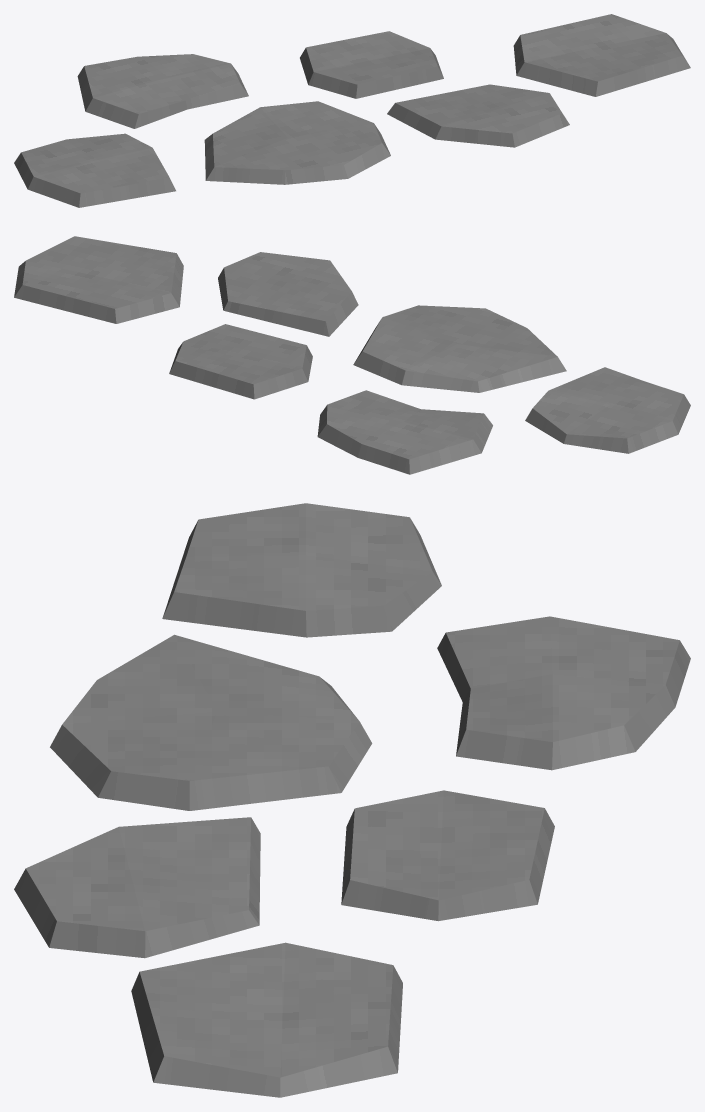
The model's file is RockSlab1.fbx.
The picture shows the model from 3 angles, top to bottom: view 1: azimuth 30°, elevation 25°; view 2: azimuth 150°, elevation 25°; view 3: azimuth 270°, elevation 25°; orthographic projection. The views are drawn at different scales.
Visible parts, largest first — view 1: rock_slab1; view 2: rock_slab1; view 3: rock_slab1.
Part boxes in pixels (<box>): rock_slab1: <box>14,14,690,207</box>; rock_slab1: <box>14,236,690,474</box>; rock_slab1: <box>14,503,690,1097</box>.
Size of the model in its own units: 2.57 by 0.049 by 1.27.
